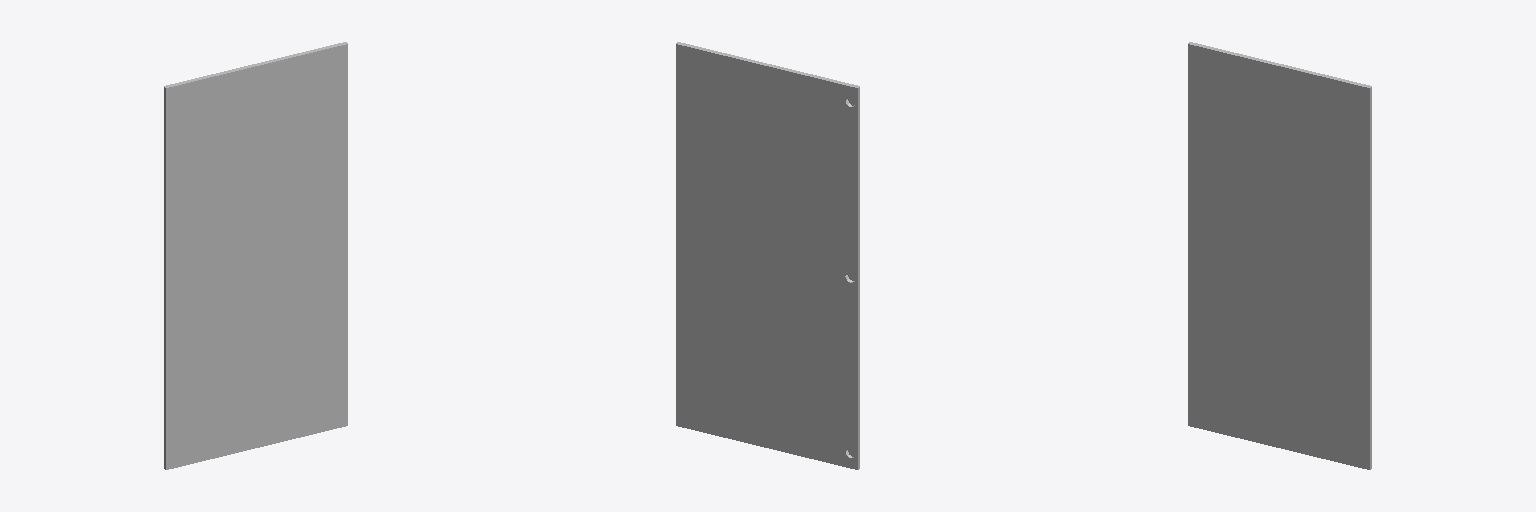
Rendered from IKEA.ART.00208236.obj.
3 renders of one model, left to right at view 1: azimuth 30°, elevation 25°; view 2: azimuth 150°, elevation 25°; view 3: azimuth 330°, elevation 25°, orthographic.
Parts seen in each view (by area): view 1: model_model.089; view 2: model_model.089; view 3: model_model.089.
Boxes of the visible parts, x1,y1,x2,y2 form: model_model.089: [164, 42, 347, 469]; model_model.089: [676, 42, 859, 469]; model_model.089: [1188, 42, 1371, 469].
Bounding box in the file's own units: 0.597 × 1.2 × 0.016.